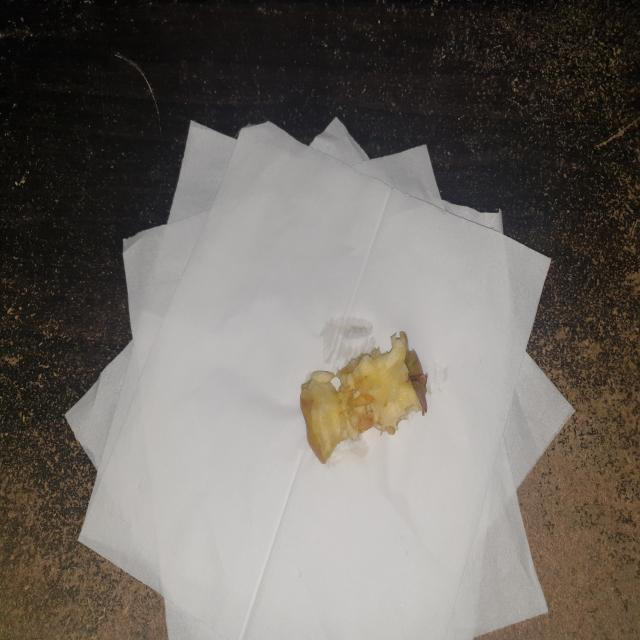apple: (292, 332, 444, 466)
